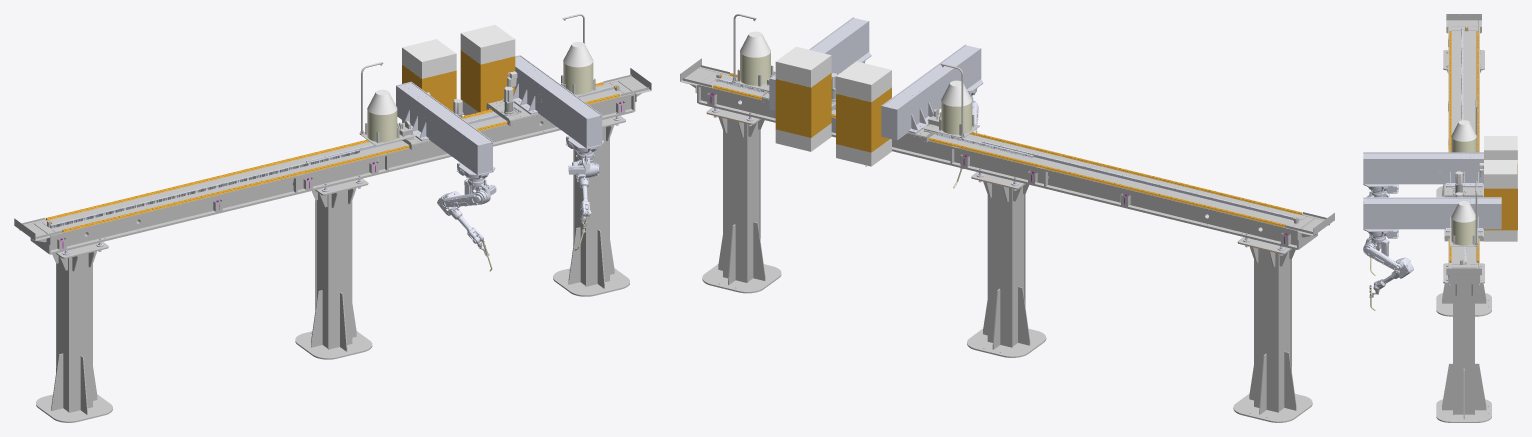
Rendered from weldHangingRobot.glb.
3 views of the same model, side by side, from view 1: azimuth 30°, elevation 25°; view 2: azimuth 150°, elevation 25°; view 3: azimuth 270°, elevation 25° (orthographic). The views are drawn at different scales.
Parts seen in each view (by area): view 1: CrossBeam, Base, Base.001, Column2, Column1, Column3; view 2: CrossBeam, Base.001, Base, Column2, Column3, Column1; view 3: Base, Base.001, CrossBeam, Column3, Column2, Y1, Column1, Z1, Y2, RobotBase, RobotBase.001, Z2.
Part boxes in pixels (<box>): CrossBeam: <box>14,68,651,254</box>; Base: <box>460,14,604,149</box>; Base.001: <box>359,39,495,175</box>; Column2: <box>295,175,372,359</box>; Column1: <box>36,238,112,422</box>; Column3: <box>553,112,629,296</box>; CrossBeam: <box>680,58,1334,249</box>; Base.001: <box>836,44,983,166</box>; Base: <box>732,14,871,151</box>; Column2: <box>967,168,1046,357</box>; Column3: <box>702,104,781,293</box>; Column1: <box>1233,233,1312,422</box>; Base: <box>1363,160,1517,246</box>; Base.001: <box>1363,99,1517,197</box>; CrossBeam: <box>1446,14,1481,283</box>; Column3: <box>1436,263,1491,422</box>; Column2: <box>1436,283,1491,316</box>; Y1: <box>1363,245,1401,271</box>; Column1: <box>1436,50,1484,197</box>; Z1: <box>1364,235,1389,256</box>; Y2: <box>1392,257,1413,278</box>; RobotBase: <box>1368,229,1398,239</box>; RobotBase.001: <box>1368,184,1398,194</box>; Z2: <box>1373,273,1395,290</box>.
Bounding box in the file's own units: 11.85 × 4.82 × 3.04.
